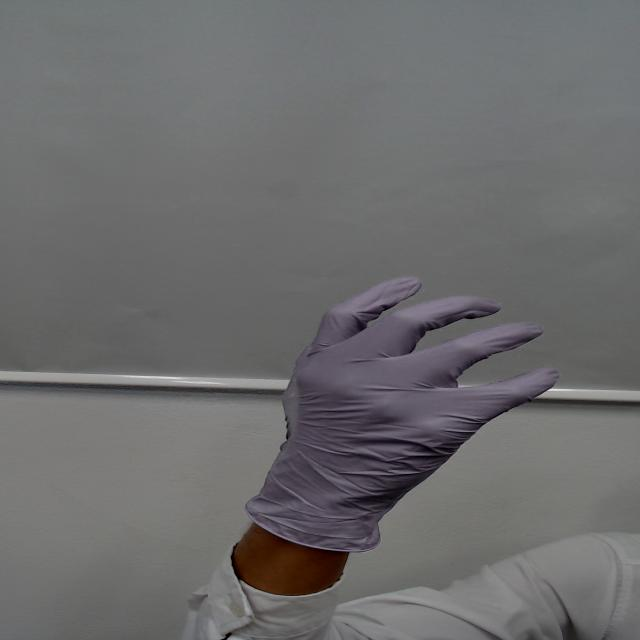glove: (247, 264, 571, 472)
